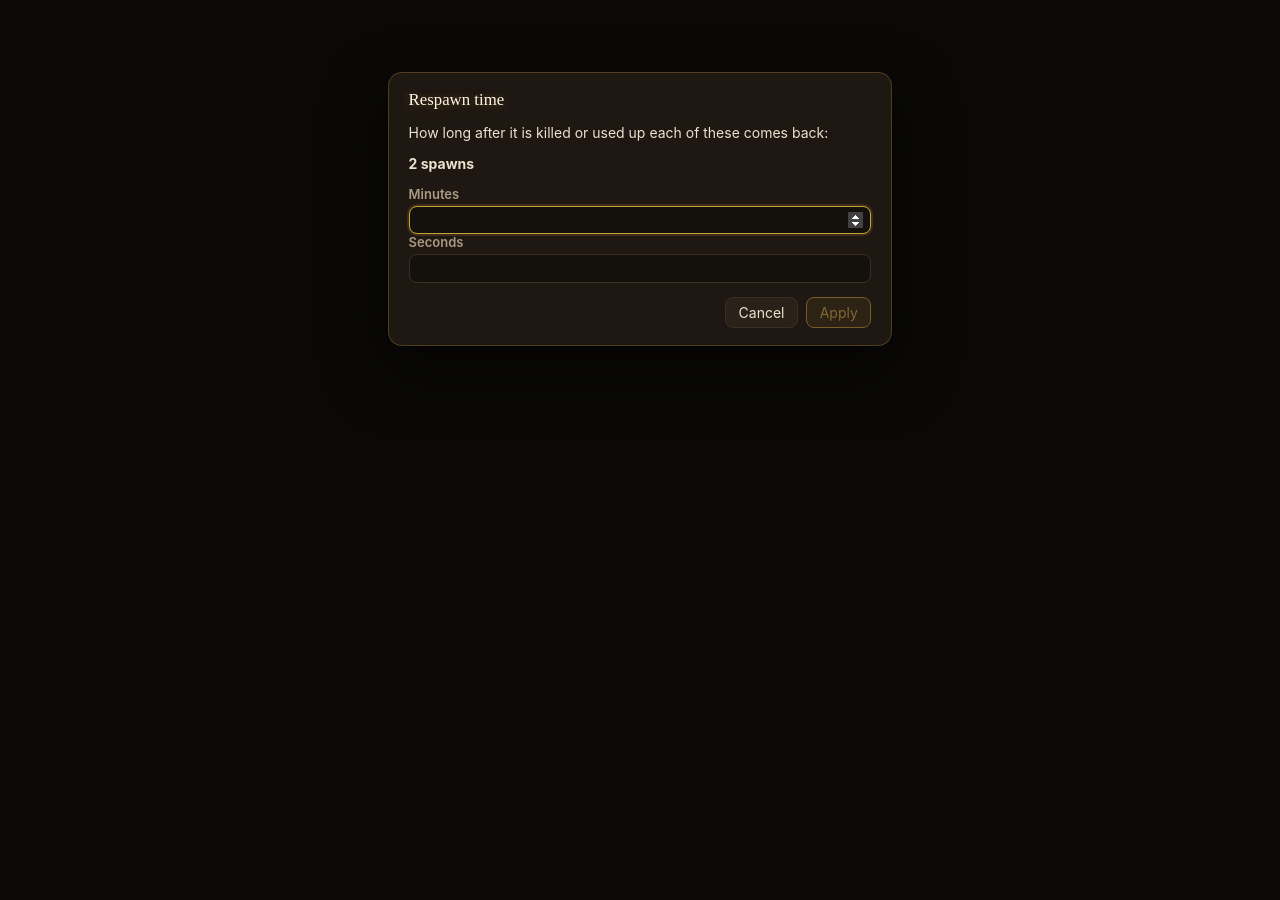
Scenario: the respawn dialog › starts blank for spawns with different times and cannot apply until one is typed
Expected: the text "2 spawns" is shown, [409,155,474,172]
Expected: the button "Apply" is disabled, [806,296,871,328]
Step 1. Type "90" into the number field labelled "Seconds" → (640, 268), box [409,254,871,283]
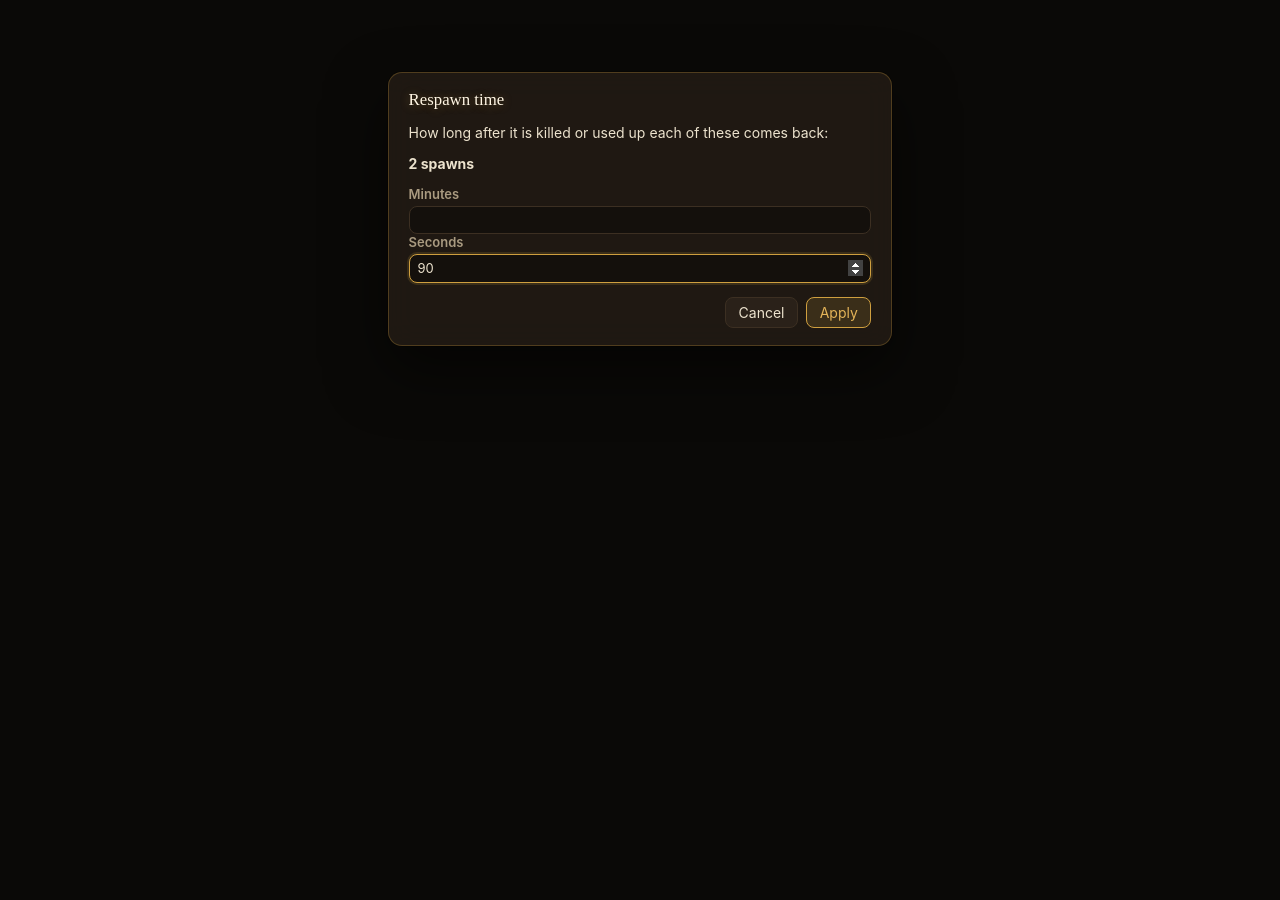
Now the button "Apply" is enabled, box [806,296,871,328]
